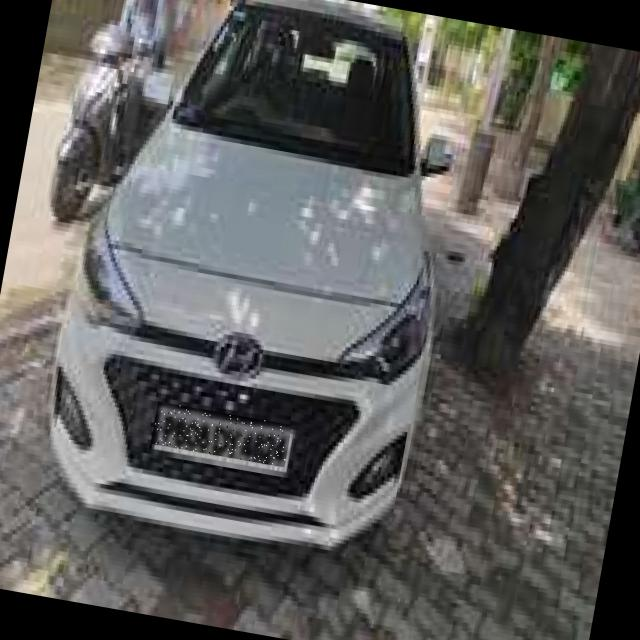Plate: (151, 402, 292, 468)
